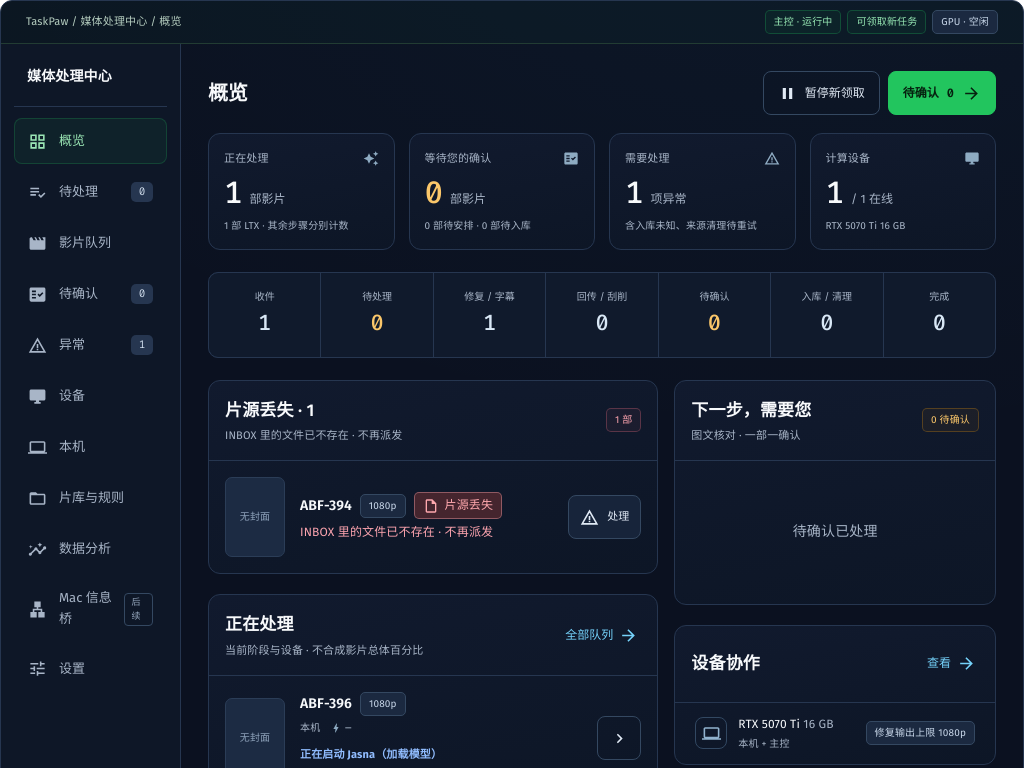
Scenario: drawer: 片源丢失 › 重新检查 asks the backend and reports a returned source
Click the button with aria-label "处理 ABF-394" at (605, 517), box [568,495,641,539]
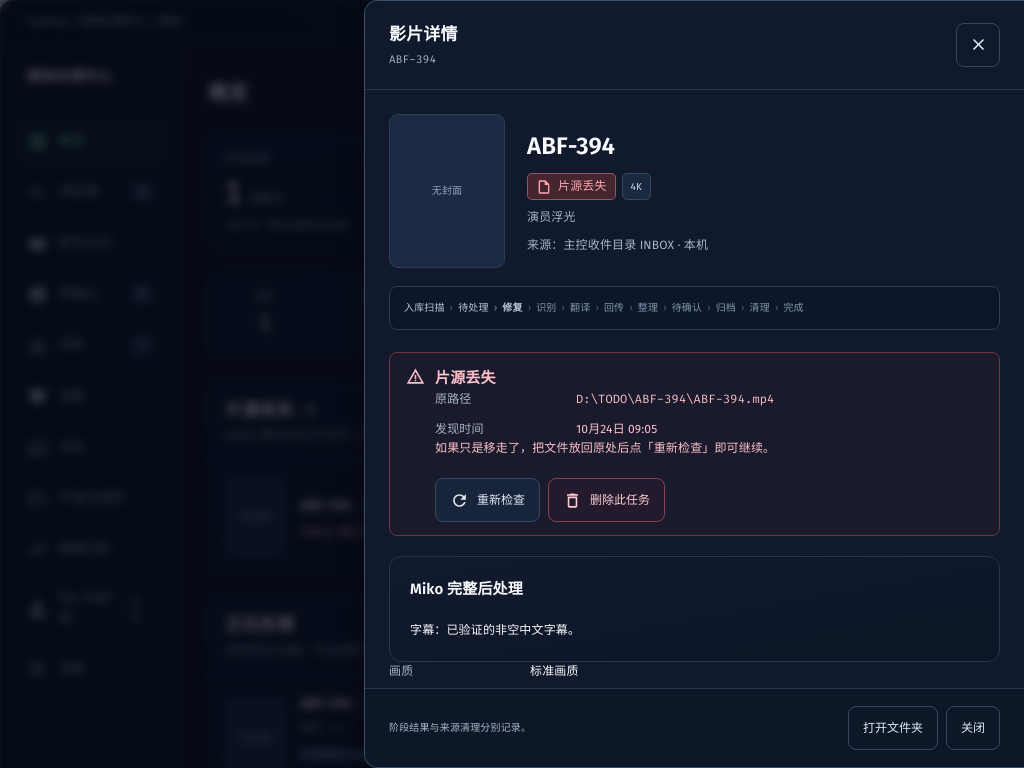
Click the button "重新检查" at (488, 500), box [435,478,540,522]
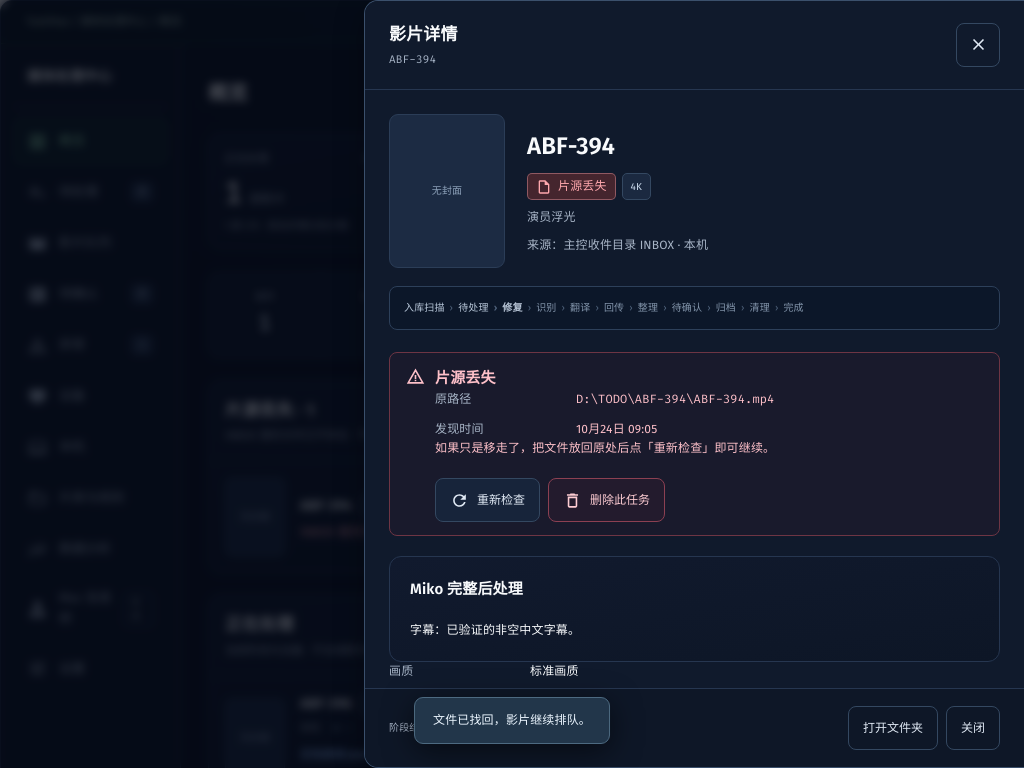
Expected: the text "文件已找回，影片继续排队。" is shown, [414,697,610,744]
